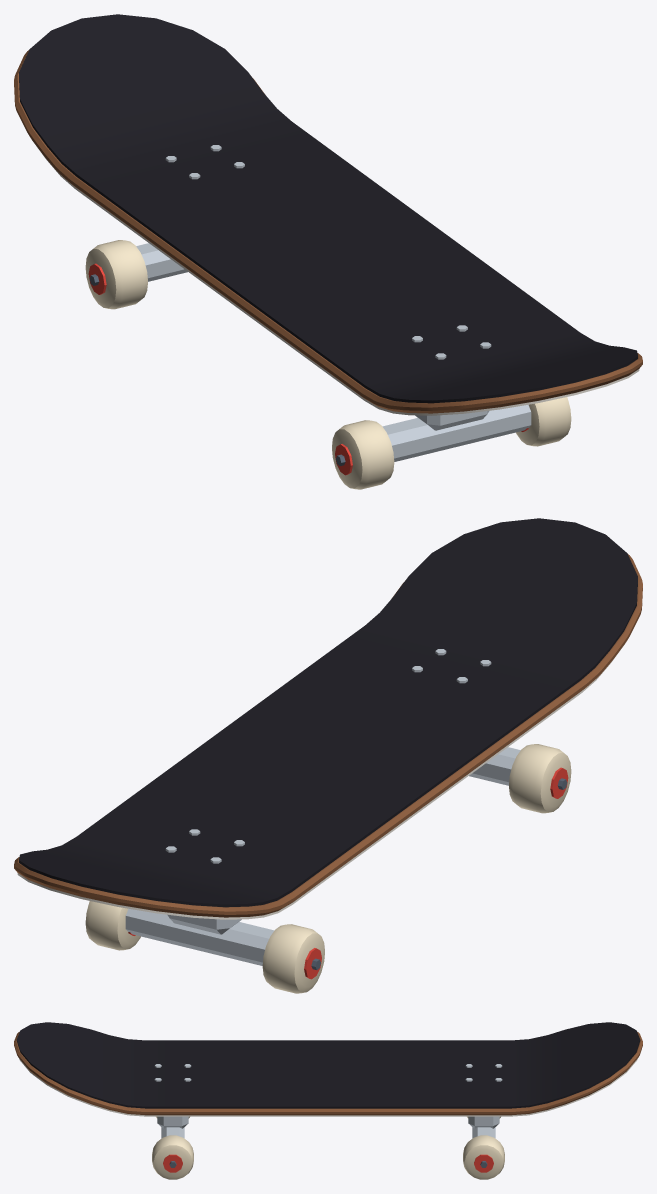
The model's file is skateboard.glb.
3 views of the same model, one above another, from view 1: azimuth 30°, elevation 25°; view 2: azimuth 150°, elevation 25°; view 3: azimuth 270°, elevation 25° (orthographic). The views are drawn at different scales.
Visible parts, largest first — view 1: skateboard; view 2: skateboard; view 3: skateboard.
Boxes of the visible parts, box(x1,y1,x2,y2) form: skateboard: box(14, 14, 642, 489); skateboard: box(14, 518, 642, 993); skateboard: box(14, 1022, 642, 1179).
Bounding box in the file's own units: 0.212 × 0.1556 × 0.8091.
2 materials, 2 textured.
